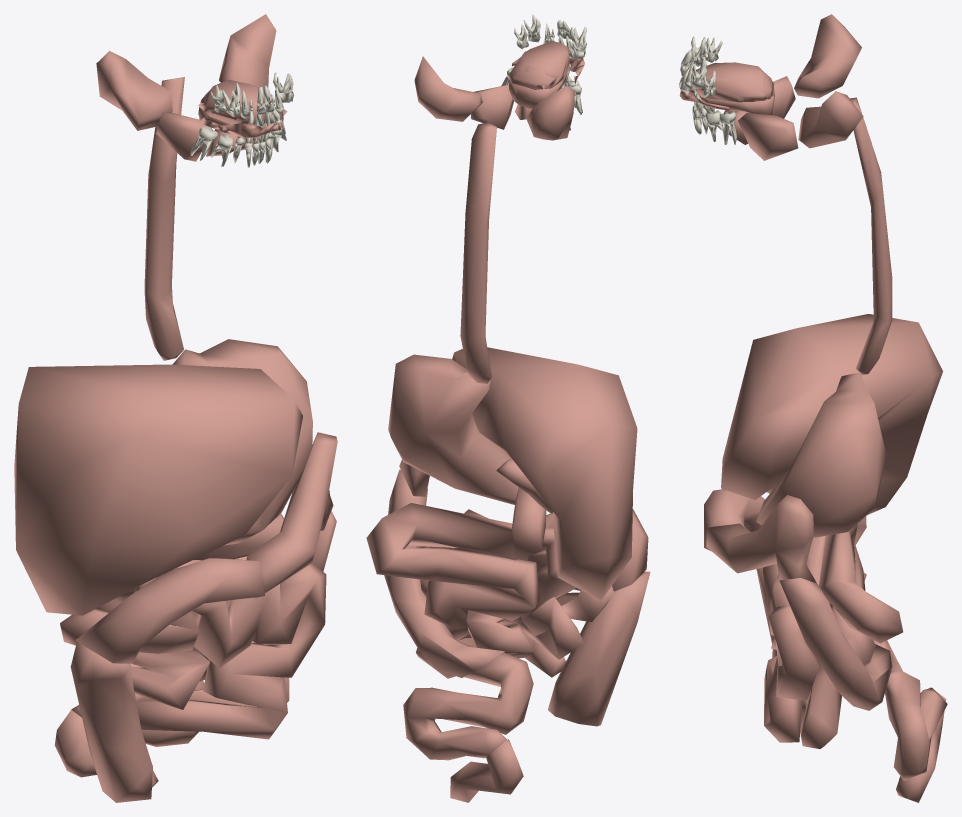
File: pediatric_infant_male.digestive.LOD3.glb
3 views of the same model, side by side, from view 1: azimuth 30°, elevation 25°; view 2: azimuth 150°, elevation 25°; view 3: azimuth 270°, elevation 25° (orthographic). The views are drawn at different scales.
Parts seen in each view (by area): view 1: PEDIATRIC.INFANT.MALE.DIGESTIVE.LIVER, PEDIATRIC.INFANT.MALE.DIGESTIVE.SMALL_INTESTINE_WALL, PEDIATRIC.INFANT.MALE.DIGESTIVE.TRANSVERSE_COLON_WALL.R, PEDIATRIC.INFANT.MALE.DIGESTIVE.ASCENDING_COLON_WALL, PEDIATRIC.INFANT.MALE.DIGESTIVE.OESOPHAGUS_WALL, PEDIATRIC.INFANT.MALE.DIGESTIVE.TRANSVERSE_COLON_WALL.L, PEDIATRIC.INFANT.MALE.DIGESTIVE.SALIVARY_GLANDS.R, PEDIATRIC.INFANT.MALE.DIGESTIVE.STOMACH_WALL, PEDIATRIC.INFANT.MALE.DIGESTIVE.SALIVARY_GLANDS.L, PEDIATRIC.INFANT.MALE.DIGESTIVE.RECTUM_WALL, PEDIATRIC.INFANT.MALE.DIGESTIVE.DECIDUOUS_CEMENTUM, PEDIATRIC.INFANT.MALE.DIGESTIVE.ORAL_MUCOSA_MOUTH_FLOOR (+5 smaller); view 2: PEDIATRIC.INFANT.MALE.DIGESTIVE.LIVER, PEDIATRIC.INFANT.MALE.DIGESTIVE.SMALL_INTESTINE_WALL, PEDIATRIC.INFANT.MALE.DIGESTIVE.STOMACH_WALL, PEDIATRIC.INFANT.MALE.DIGESTIVE.SIGMOID_COLON_WALL, PEDIATRIC.INFANT.MALE.DIGESTIVE.ASCENDING_COLON_WALL, PEDIATRIC.INFANT.MALE.DIGESTIVE.OESOPHAGUS_WALL, PEDIATRIC.INFANT.MALE.DIGESTIVE.DESCENDING_COLON_WALL, PEDIATRIC.INFANT.MALE.DIGESTIVE.SALIVARY_GLANDS.L, PEDIATRIC.INFANT.MALE.DIGESTIVE.RECTUM_WALL, PEDIATRIC.INFANT.MALE.DIGESTIVE.SALIVARY_GLANDS.R, PEDIATRIC.INFANT.MALE.DIGESTIVE.ORAL_MUCOSA_MOUTH_FLOOR, PEDIATRIC.INFANT.MALE.DIGESTIVE.TRANSVERSE_COLON_WALL.R (+7 smaller); view 3: PEDIATRIC.INFANT.MALE.DIGESTIVE.LIVER, PEDIATRIC.INFANT.MALE.DIGESTIVE.SMALL_INTESTINE_WALL, PEDIATRIC.INFANT.MALE.DIGESTIVE.STOMACH_WALL, PEDIATRIC.INFANT.MALE.DIGESTIVE.DESCENDING_COLON_WALL, PEDIATRIC.INFANT.MALE.DIGESTIVE.TRANSVERSE_COLON_WALL.L, PEDIATRIC.INFANT.MALE.DIGESTIVE.SALIVARY_GLANDS.L, PEDIATRIC.INFANT.MALE.DIGESTIVE.OESOPHAGUS_WALL, PEDIATRIC.INFANT.MALE.DIGESTIVE.SIGMOID_COLON_WALL, PEDIATRIC.INFANT.MALE.DIGESTIVE.SALIVARY_GLANDS.R, PEDIATRIC.INFANT.MALE.DIGESTIVE.TRANSVERSE_COLON_WALL.R, PEDIATRIC.INFANT.MALE.DIGESTIVE.ORAL_MUCOSA_MOUTH_FLOOR, PEDIATRIC.INFANT.MALE.DIGESTIVE.DECIDUOUS_CEMENTUM (+5 smaller).
Boxes of the visible parts, box(x1,y1,x2,y2) form: PEDIATRIC.INFANT.MALE.DIGESTIVE.LIVER: box(14, 364, 302, 615); PEDIATRIC.INFANT.MALE.DIGESTIVE.SMALL_INTESTINE_WALL: box(60, 513, 326, 739); PEDIATRIC.INFANT.MALE.DIGESTIVE.TRANSVERSE_COLON_WALL.R: box(75, 558, 264, 663); PEDIATRIC.INFANT.MALE.DIGESTIVE.ASCENDING_COLON_WALL: box(70, 642, 152, 802); PEDIATRIC.INFANT.MALE.DIGESTIVE.OESOPHAGUS_WALL: box(144, 77, 184, 360); PEDIATRIC.INFANT.MALE.DIGESTIVE.TRANSVERSE_COLON_WALL.L: box(246, 432, 337, 599); PEDIATRIC.INFANT.MALE.DIGESTIVE.SALIVARY_GLANDS.R: box(96, 51, 242, 161); PEDIATRIC.INFANT.MALE.DIGESTIVE.STOMACH_WALL: box(172, 339, 312, 545); PEDIATRIC.INFANT.MALE.DIGESTIVE.SALIVARY_GLANDS.L: box(219, 14, 276, 150); PEDIATRIC.INFANT.MALE.DIGESTIVE.RECTUM_WALL: box(54, 710, 158, 787); PEDIATRIC.INFANT.MALE.DIGESTIVE.DECIDUOUS_CEMENTUM: box(190, 72, 293, 166); PEDIATRIC.INFANT.MALE.DIGESTIVE.ORAL_MUCOSA_MOUTH_FLOOR: box(198, 79, 265, 124); PEDIATRIC.INFANT.MALE.DIGESTIVE.LIVER: box(452, 347, 637, 600); PEDIATRIC.INFANT.MALE.DIGESTIVE.SMALL_INTESTINE_WALL: box(366, 487, 613, 678); PEDIATRIC.INFANT.MALE.DIGESTIVE.STOMACH_WALL: box(388, 354, 518, 504); PEDIATRIC.INFANT.MALE.DIGESTIVE.SIGMOID_COLON_WALL: box(403, 652, 533, 760); PEDIATRIC.INFANT.MALE.DIGESTIVE.ASCENDING_COLON_WALL: box(548, 571, 650, 726); PEDIATRIC.INFANT.MALE.DIGESTIVE.OESOPHAGUS_WALL: box(460, 122, 496, 383); PEDIATRIC.INFANT.MALE.DIGESTIVE.DESCENDING_COLON_WALL: box(384, 469, 504, 677); PEDIATRIC.INFANT.MALE.DIGESTIVE.SALIVARY_GLANDS.L: box(414, 56, 532, 129); PEDIATRIC.INFANT.MALE.DIGESTIVE.RECTUM_WALL: box(450, 739, 523, 802); PEDIATRIC.INFANT.MALE.DIGESTIVE.SALIVARY_GLANDS.R: box(526, 86, 575, 140); PEDIATRIC.INFANT.MALE.DIGESTIVE.ORAL_MUCOSA_MOUTH_FLOOR: box(508, 41, 569, 89); PEDIATRIC.INFANT.MALE.DIGESTIVE.TRANSVERSE_COLON_WALL.R: box(612, 509, 648, 591); PEDIATRIC.INFANT.MALE.DIGESTIVE.LIVER: box(721, 314, 942, 514); PEDIATRIC.INFANT.MALE.DIGESTIVE.SMALL_INTESTINE_WALL: box(762, 516, 903, 748); PEDIATRIC.INFANT.MALE.DIGESTIVE.STOMACH_WALL: box(756, 372, 886, 537); PEDIATRIC.INFANT.MALE.DIGESTIVE.DESCENDING_COLON_WALL: box(779, 578, 892, 710); PEDIATRIC.INFANT.MALE.DIGESTIVE.TRANSVERSE_COLON_WALL.L: box(706, 495, 816, 583); PEDIATRIC.INFANT.MALE.DIGESTIVE.SALIVARY_GLANDS.L: box(729, 91, 863, 160); PEDIATRIC.INFANT.MALE.DIGESTIVE.OESOPHAGUS_WALL: box(850, 97, 892, 374); PEDIATRIC.INFANT.MALE.DIGESTIVE.SIGMOID_COLON_WALL: box(873, 640, 947, 780); PEDIATRIC.INFANT.MALE.DIGESTIVE.SALIVARY_GLANDS.R: box(724, 14, 861, 118); PEDIATRIC.INFANT.MALE.DIGESTIVE.TRANSVERSE_COLON_WALL.R: box(704, 489, 764, 550); PEDIATRIC.INFANT.MALE.DIGESTIVE.ORAL_MUCOSA_MOUTH_FLOOR: box(693, 62, 774, 102); PEDIATRIC.INFANT.MALE.DIGESTIVE.DECIDUOUS_CEMENTUM: box(680, 37, 736, 144).
Size of the model in its own units: 0.1364 by 0.3665 by 0.1181.
